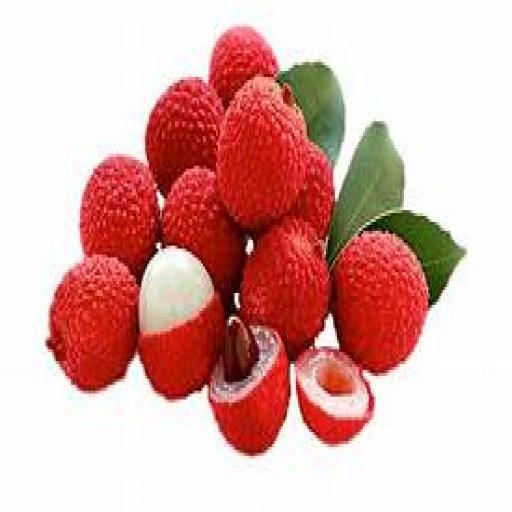lychee: (215, 77, 304, 230), (137, 246, 224, 399), (333, 231, 427, 372), (240, 217, 328, 358), (48, 255, 136, 390), (161, 166, 244, 304), (208, 317, 289, 455), (80, 157, 159, 278), (145, 77, 222, 195), (296, 350, 373, 443), (208, 27, 276, 106), (292, 143, 334, 239)
